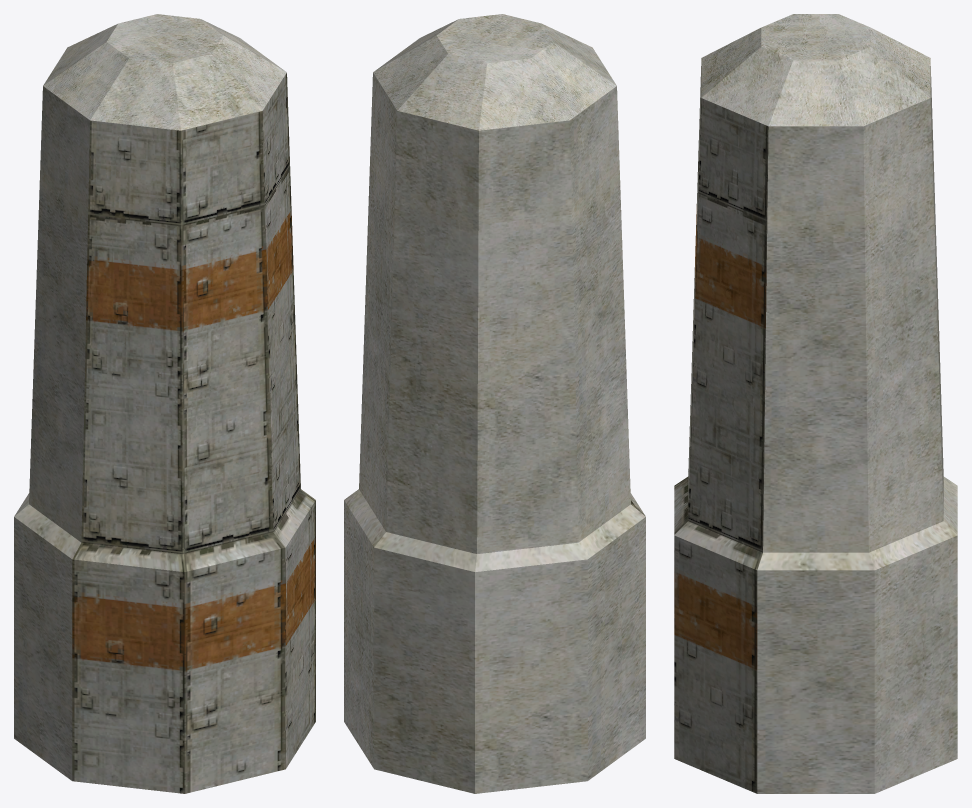
Rendered from mun_all_military_column_strong_rebl_s01_l0.fbx.
3 views of the same model, side by side, from view 1: azimuth 30°, elevation 25°; view 2: azimuth 150°, elevation 25°; view 3: azimuth 270°, elevation 25° (orthographic).
Visible parts, largest first — view 1: mesh_node; view 2: mesh_node; view 3: mesh_node.
Part boxes in pixels (<box>): mesh_node: <box>14,14,315,793</box>; mesh_node: <box>344,14,645,793</box>; mesh_node: <box>674,14,957,793</box>.
Size of the model in its own units: 2.73 by 7.4 by 2.73.
